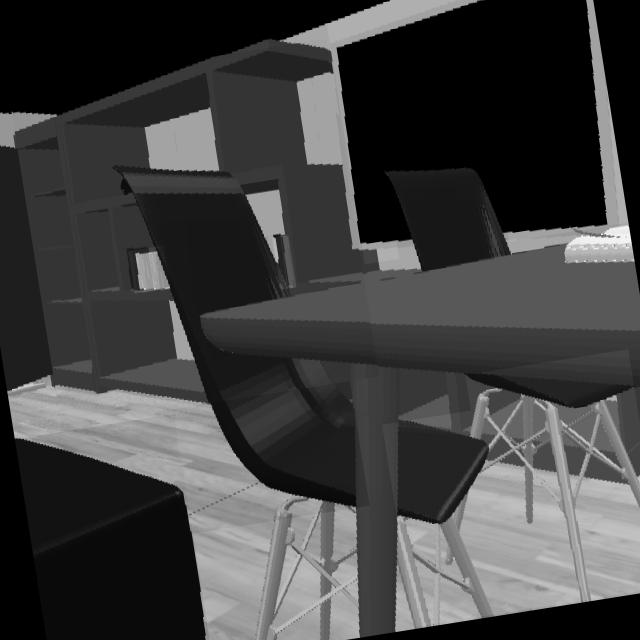book: (130, 251, 170, 291), (276, 238, 293, 288)
bookshelf: (17, 43, 358, 404)
chair: (116, 169, 356, 510), (466, 375, 635, 602), (397, 422, 494, 618), (387, 170, 511, 273)
monitor: (335, 0, 616, 243)
sofa: (15, 440, 205, 640)
